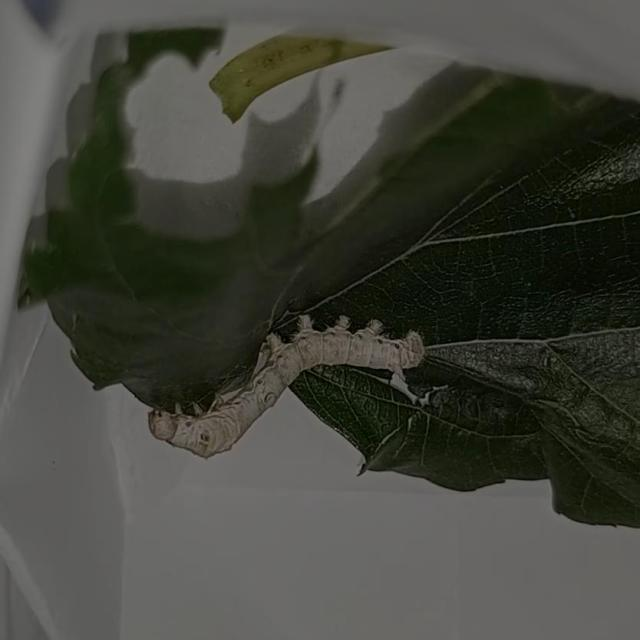Healthy: (134, 307, 436, 468)
